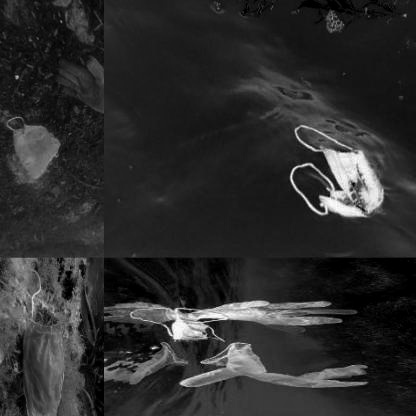Mask: (288, 122, 385, 222), (19, 263, 68, 415), (5, 106, 63, 194), (168, 306, 234, 341)
glove: (177, 338, 381, 392), (209, 298, 365, 332), (48, 46, 104, 128)
